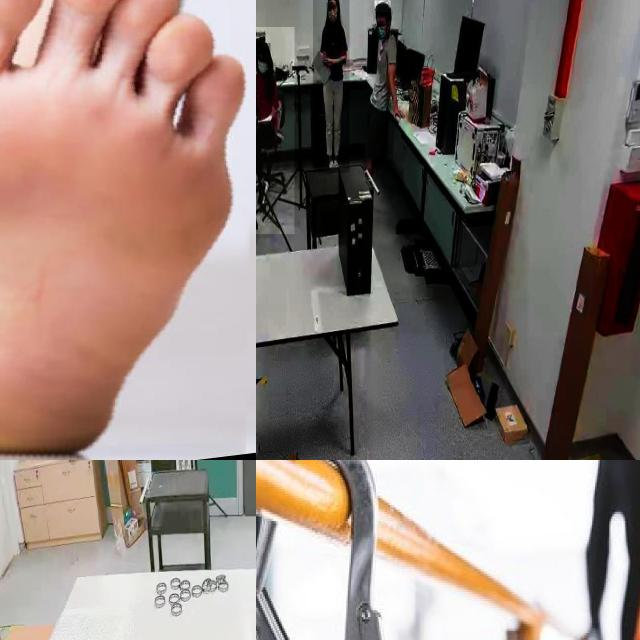Barefoots: (0, 0, 256, 460)
face_mask: (326, 2, 340, 32), (372, 24, 390, 40), (256, 56, 268, 78)
hand_noglove: (391, 104, 406, 120), (323, 55, 334, 67), (339, 45, 347, 57)
head_nohelmet: (375, 0, 391, 13), (256, 42, 271, 55), (326, 0, 339, 2)
person: (256, 27, 295, 235), (364, 3, 408, 176), (313, 0, 350, 174)
